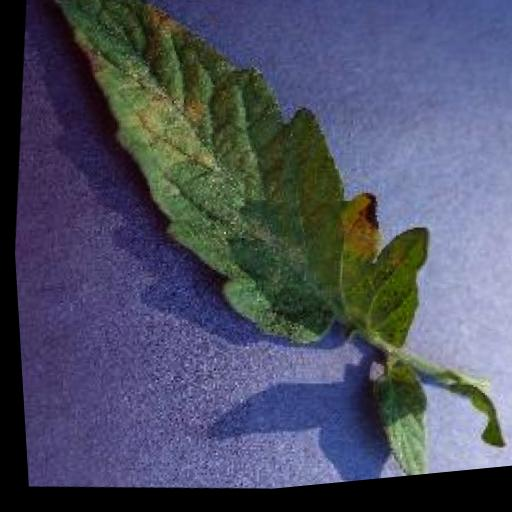Leaf Mold: (0, 0, 456, 384)
